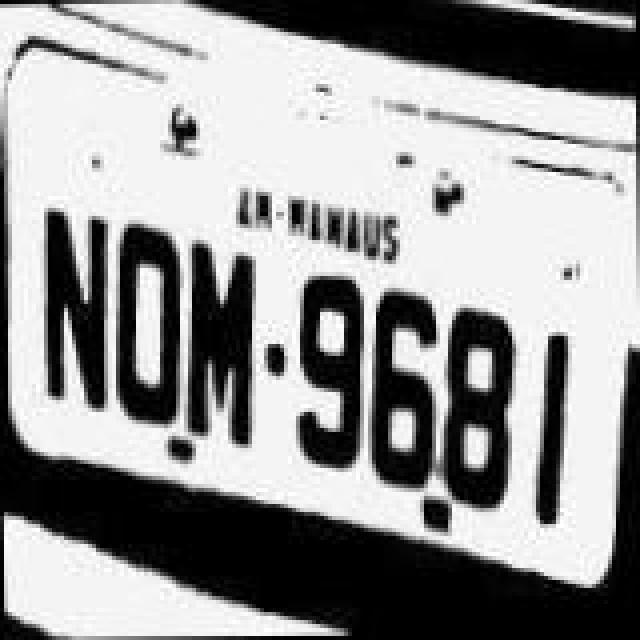1: (526, 302, 582, 534)
6: (364, 270, 440, 502)
8: (440, 280, 516, 520)
9: (292, 254, 372, 482)
M: (186, 236, 262, 452)
N: (38, 194, 114, 438)
O: (106, 206, 182, 430)
